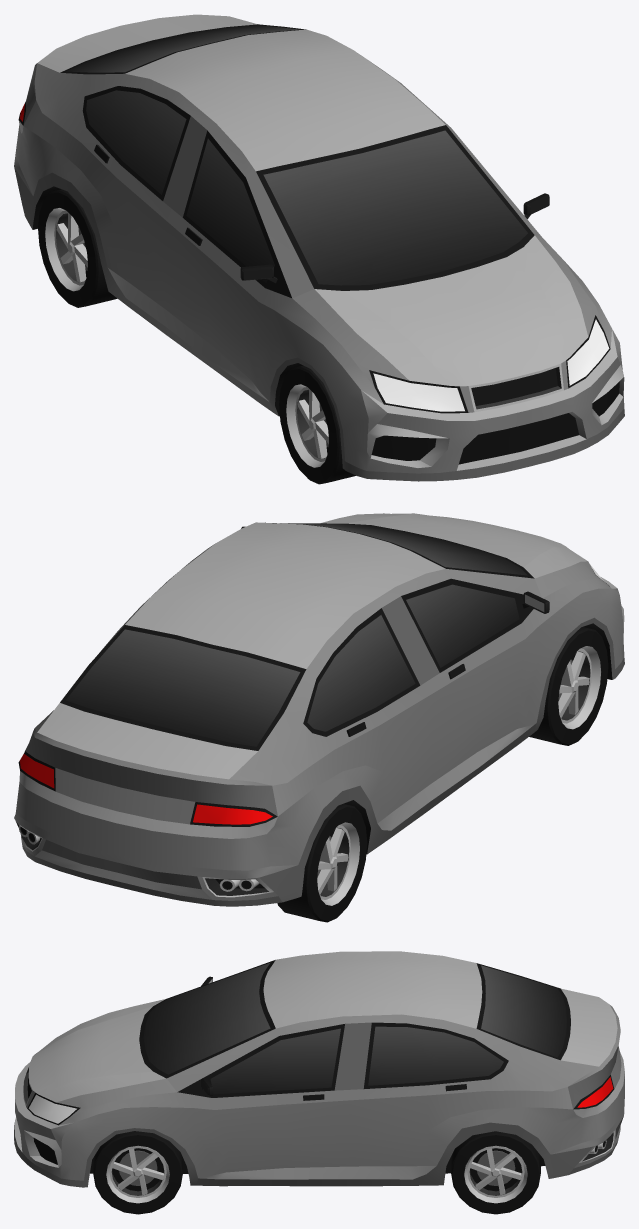
The model's file is Sedan 4.fbx.
3 views of the same model, one above another, from view 1: azimuth 30°, elevation 25°; view 2: azimuth 150°, elevation 25°; view 3: azimuth 270°, elevation 25° (orthographic). The views are drawn at different scales.
Visible parts, largest first — view 1: Sedan_4_Body, B_R, F_R, Sedan_4_LIghts; view 2: Sedan_4_Body, B_R, F_R, Sedan_4_LIghts; view 3: Sedan_4_Body, B_L, F_L, Sedan_4_LIghts.
Part boxes in pixels (<box>): Sedan_4_Body: <box>14,14,624,481</box>; B_R: <box>38,189,117,307</box>; F_R: <box>279,365,355,484</box>; Sedan_4_LIghts: <box>19,103,609,411</box>; Sedan_4_Body: <box>14,513,624,906</box>; B_R: <box>277,803,367,922</box>; F_R: <box>529,627,608,745</box>; Sedan_4_LIghts: <box>19,564,603,824</box>; Sedan_4_Body: <box>14,951,624,1187</box>; B_L: <box>451,1131,540,1214</box>; F_L: <box>93,1131,182,1214</box>; Sedan_4_LIghts: <box>28,1077,613,1123</box>.
Size of the model in its own units: 182 by 142 by 422.
